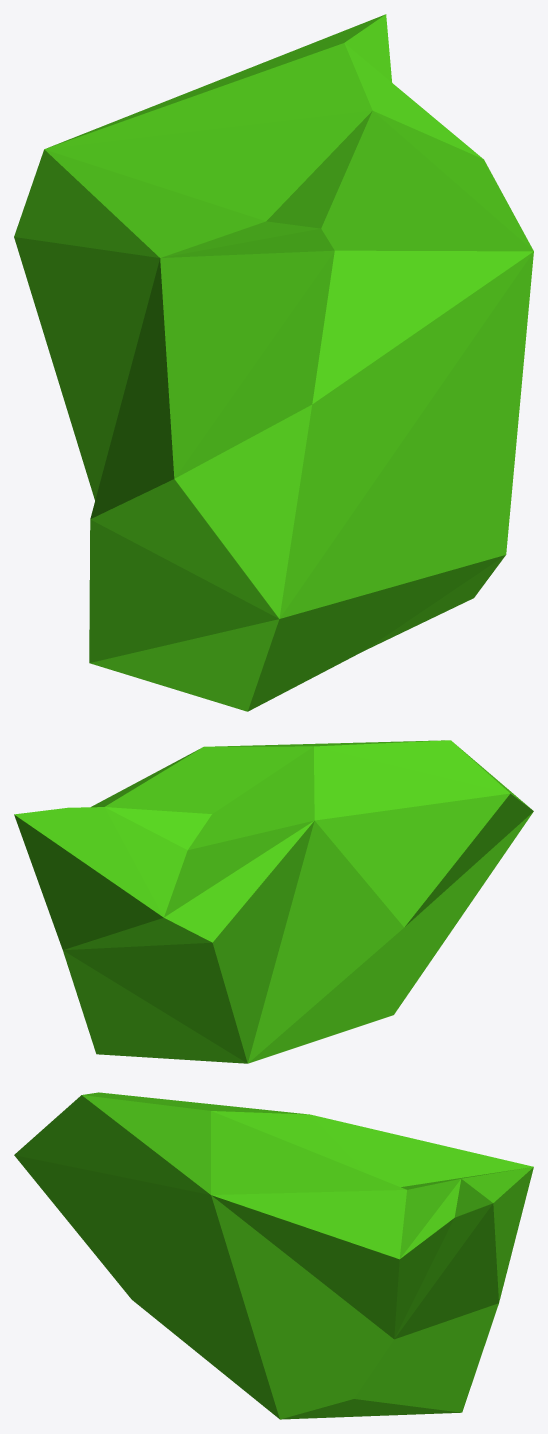
The model's file is kust_2.fbx.
3 views of the same model, one above another, from view 1: azimuth 30°, elevation 25°; view 2: azimuth 150°, elevation 25°; view 3: azimuth 270°, elevation 25° (orthographic). The views are drawn at different scales.
Visible parts, largest first — view 1: Cube.003; view 2: Cube.003; view 3: Cube.003.
Part boxes in pixels (x1,y1,x2,y2): Cube.003: (14, 14, 533, 711); Cube.003: (14, 740, 533, 1063); Cube.003: (14, 1092, 533, 1419).
Bounding box in the file's own units: 121 × 90.57 × 166.
